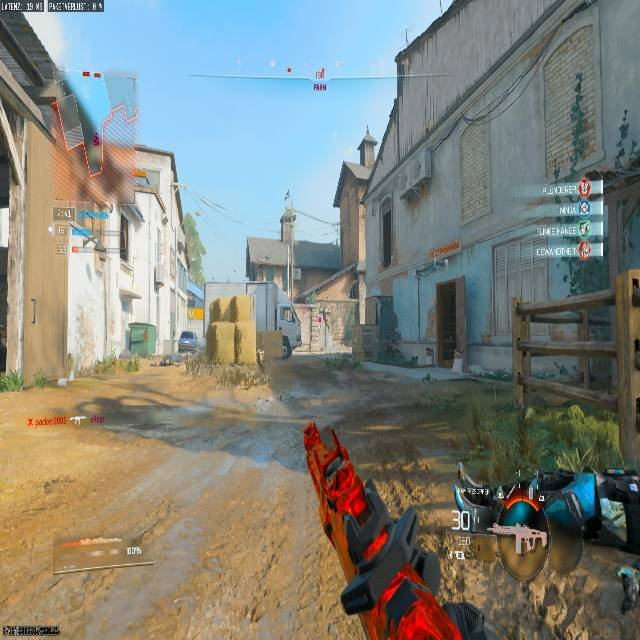player: (454, 464, 639, 613), (279, 332, 292, 360)
